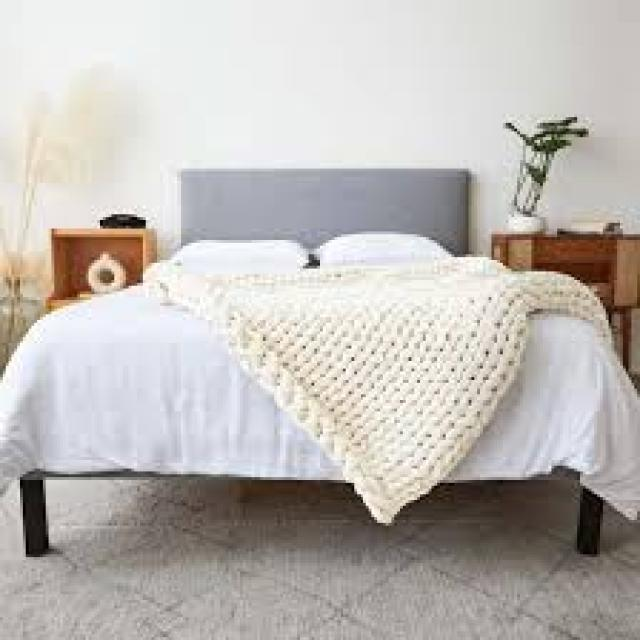blanket: (150, 260, 640, 524)
